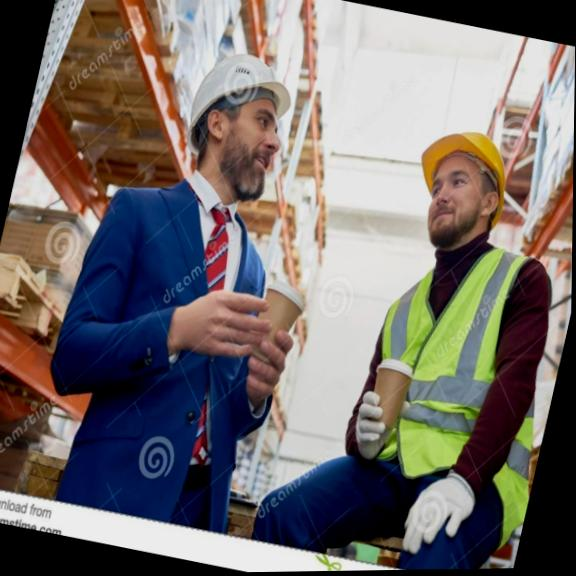no_safety_vest: (43, 163, 289, 509)
safety_vest: (343, 211, 532, 507)
